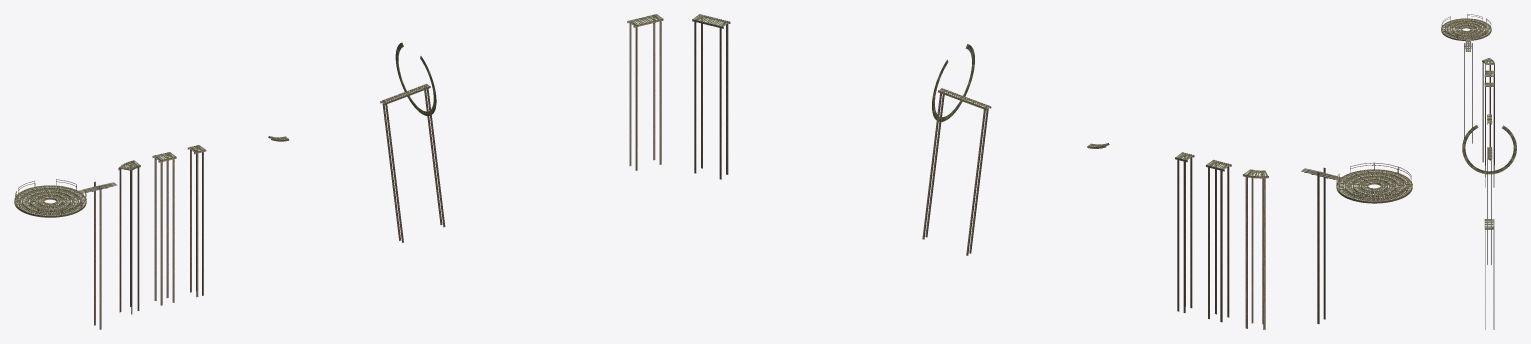
3 renders of one model, left to right at view 1: azimuth 30°, elevation 25°; view 2: azimuth 150°, elevation 25°; view 3: azimuth 270°, elevation 25°, orthographic. The views are drawn at different scales.
Parts seen in each view (by area): view 1: Ramp, Ramp.024, Ramp.015, Ramp.018, Ramp.017, Ramp.010, Ramp.026, Ramp.011; view 2: Ramp.024, Ramp, Ramp.018, Ramp.017, Ramp.015, Ramp.010, Ramp.026, Ramp.011; view 3: Ramp.024, Ramp.017, Ramp.011, Ramp, Ramp.010, Ramp.018, Ramp.026, Ramp.015, Ramp.025.
Boxes of the visible parts, bbox=[...] form: Ramp: bbox=[627, 14, 663, 170]; Ramp.024: bbox=[14, 185, 86, 217]; Ramp.015: bbox=[152, 152, 176, 305]; Ramp.018: bbox=[380, 83, 445, 242]; Ramp.017: bbox=[118, 160, 140, 314]; Ramp.010: bbox=[187, 145, 206, 297]; Ramp.026: bbox=[78, 181, 116, 329]; Ramp.011: bbox=[395, 42, 436, 115]; Ramp.024: bbox=[1336, 169, 1412, 203]; Ramp: bbox=[692, 14, 730, 179]; Ramp.018: bbox=[922, 88, 991, 255]; Ramp.017: bbox=[1242, 169, 1268, 329]; Ramp.015: bbox=[1206, 160, 1231, 322]; Ramp.010: bbox=[1175, 152, 1194, 312]; Ramp.026: bbox=[1301, 167, 1341, 323]; Ramp.011: bbox=[932, 44, 974, 121]; Ramp.024: bbox=[1441, 18, 1491, 40]; Ramp.017: bbox=[1482, 58, 1494, 165]; Ramp.011: bbox=[1462, 125, 1516, 174]; Ramp: bbox=[1484, 219, 1494, 329]; Ramp.010: bbox=[1484, 82, 1494, 187]; Ramp.018: bbox=[1487, 147, 1492, 264]; Ramp.026: bbox=[1464, 39, 1472, 143]; Ramp.015: bbox=[1484, 70, 1494, 176]; Ramp.025: bbox=[1441, 14, 1491, 38].
Size of the model in its own units: 11036 by 3089 by 1580.
